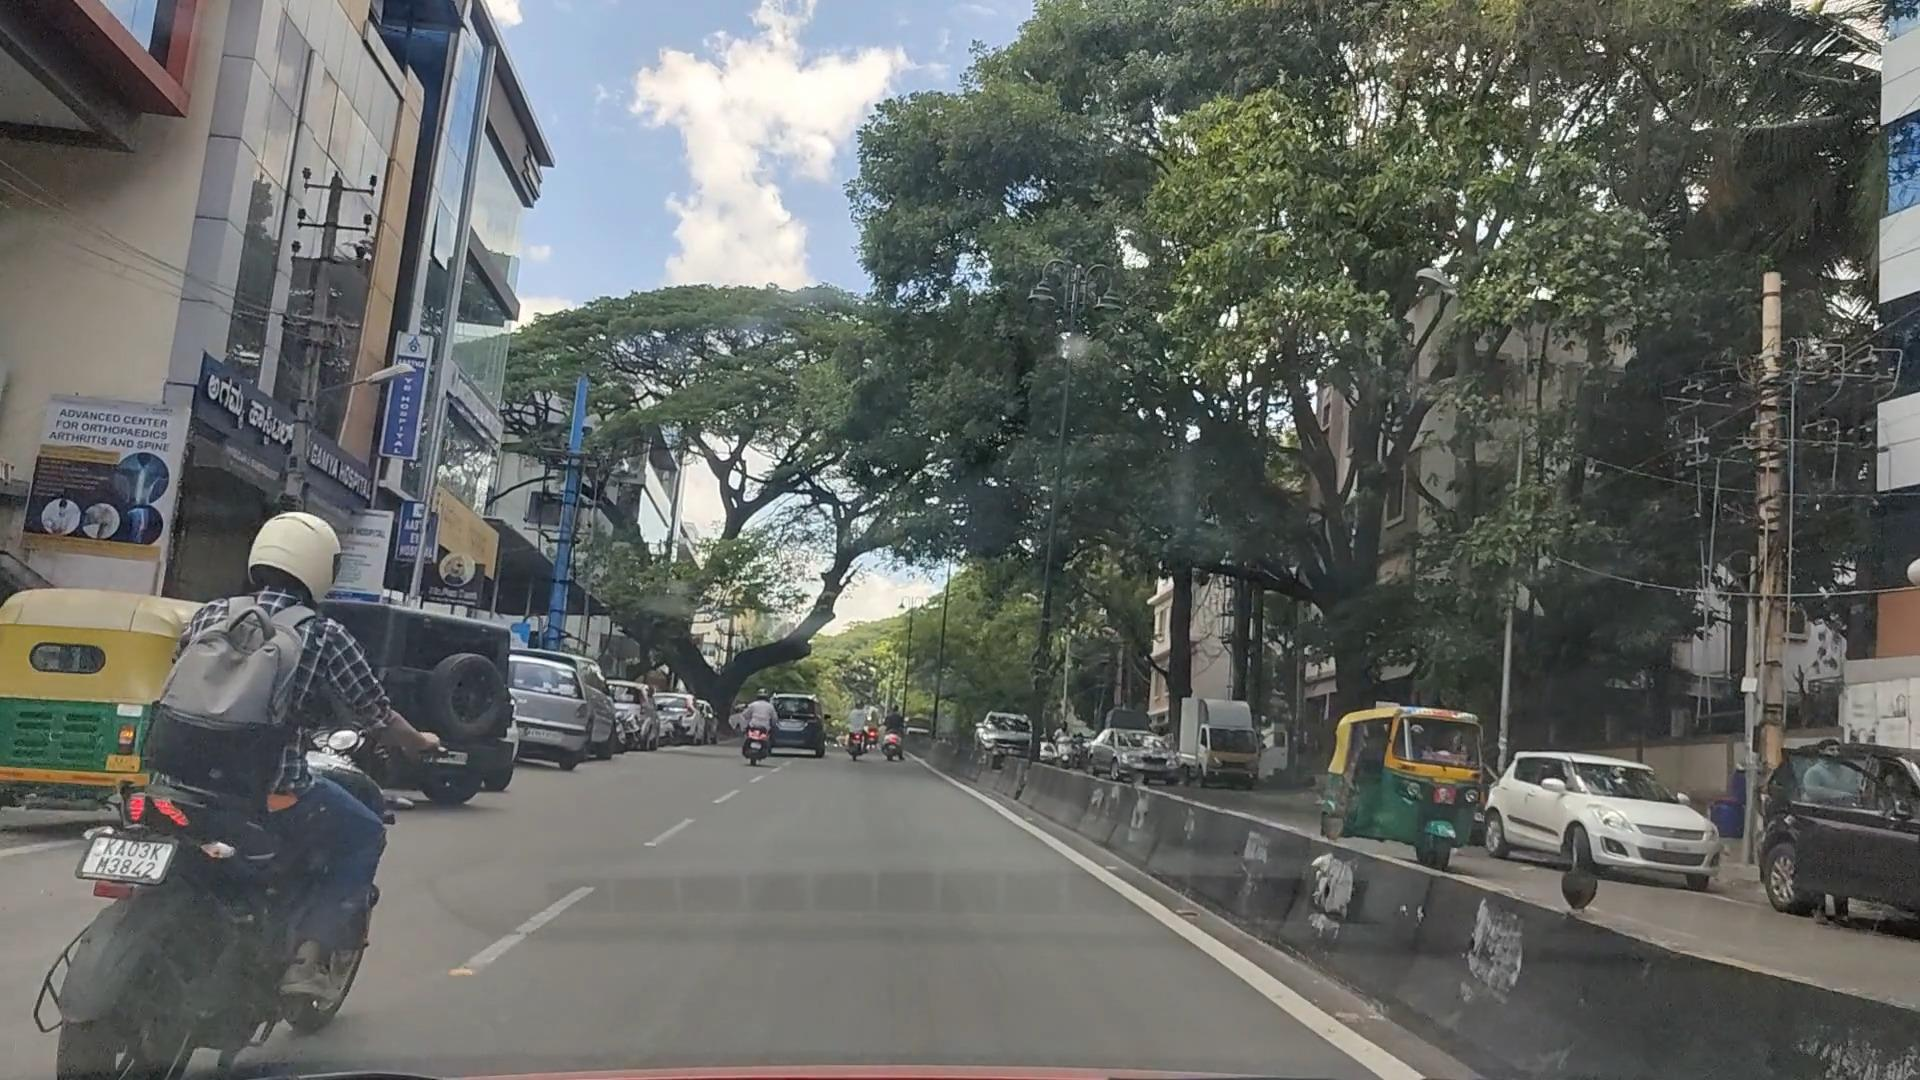LMV: (58, 491, 454, 1079)
